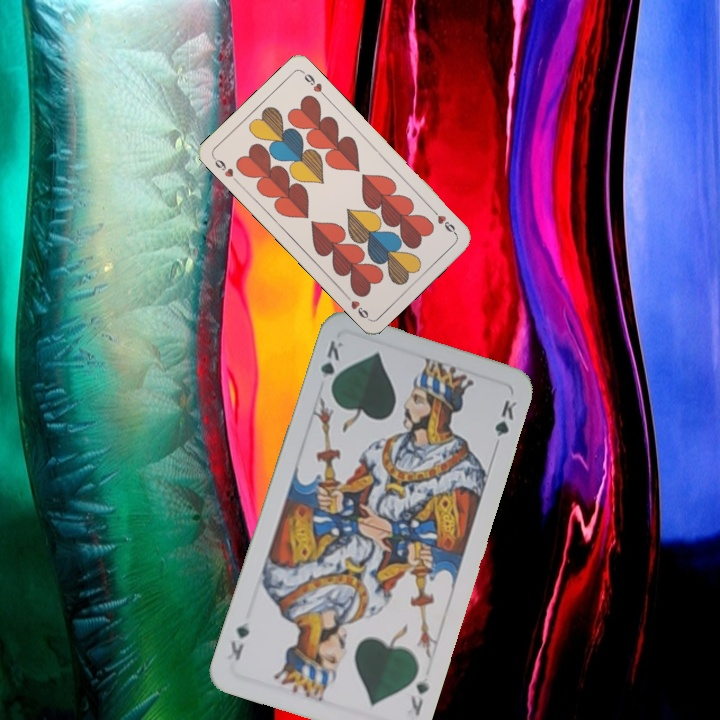GK: (316, 336, 346, 394), (406, 672, 432, 719)
H9: (209, 153, 241, 185), (427, 205, 459, 237)
